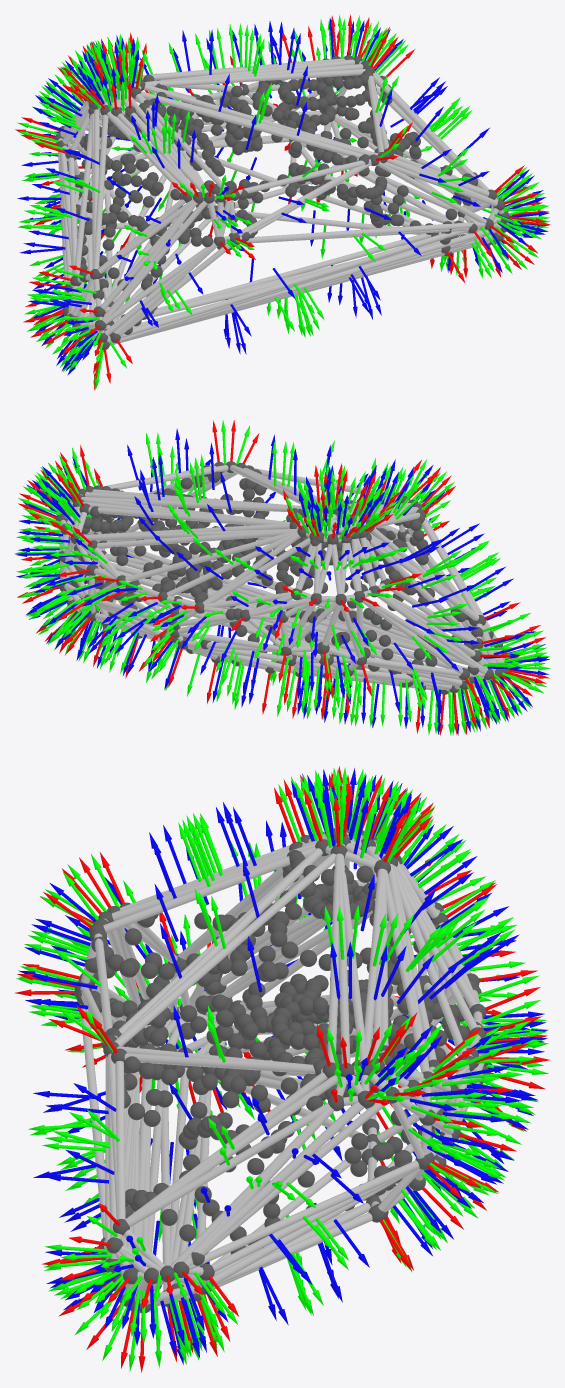
File: author2_gamepad.gltf
3 views of the same model, one above another, from view 1: azimuth 30°, elevation 25°; view 2: azimuth 150°, elevation 25°; view 3: azimuth 270°, elevation 25° (orthographic). The views are drawn at different scales.
Bounding box in the file's own units: 0.967 × 0.5127 × 0.6236.
